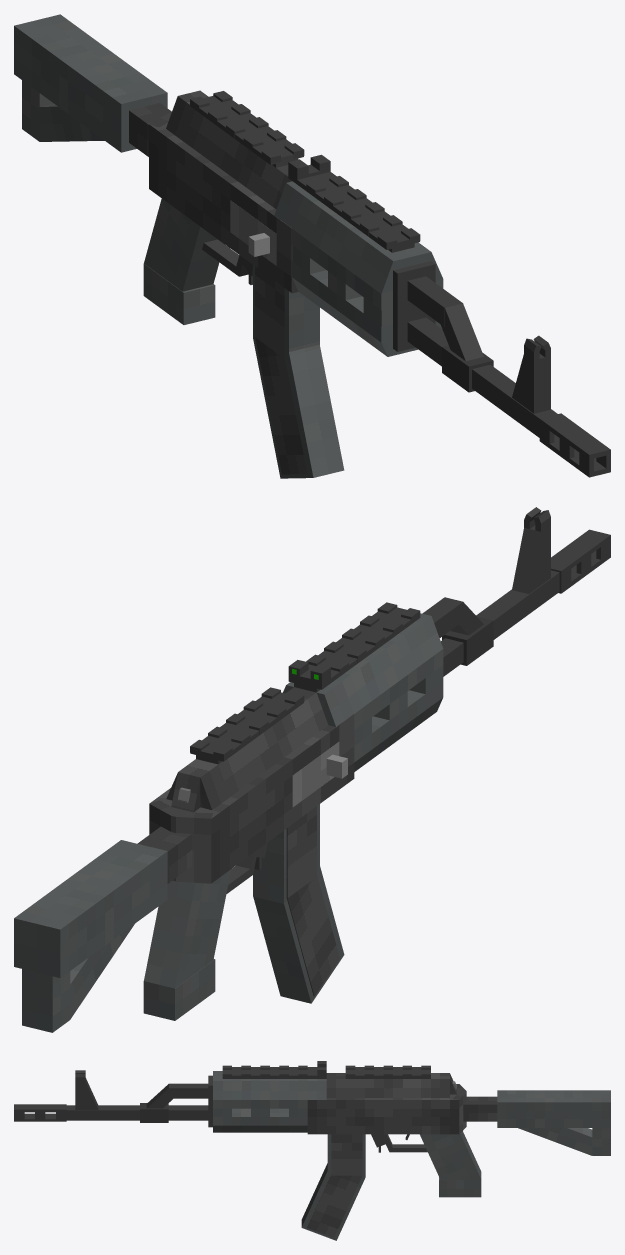
Rendered from assault_rifle.gltf.
3 renders of one model, top to bottom at view 1: azimuth 30°, elevation 25°; view 2: azimuth 150°, elevation 25°; view 3: azimuth 270°, elevation 25°, orthographic. The views are drawn at different scales.
Visible parts, largest first — view 1: body (×20), magazine (×4), stock_main (×2), handle (×2), stock_under, chamber, stock_back, trigger_guard; view 2: body (×18), stock_main (×2), magazine (×4), handle (×2), stock_back, body_back_right, stock_under, chamber, body_back_left; view 3: body (×18), stock_main (×2), magazine (×4), handle (×2), stock_under, stock_back, trigger_guard, body_back_left.
Part boxes in pixels (left/top/right/bottom): body (×20): left=149, top=96, right=610, bottom=477; magazine (×4): left=253, top=265, right=344, bottom=478; stock_main (×2): left=14, top=14, right=171, bottom=156; handle (×2): left=143, top=198, right=219, bottom=324; stock_under: left=39, top=103, right=104, bottom=141; chamber: left=230, top=200, right=276, bottom=265; stock_back: left=22, top=80, right=53, bottom=141; trigger_guard: left=202, top=239, right=239, bottom=276; body (×18): left=171, top=527, right=610, bottom=883; stock_main (×2): left=14, top=826, right=191, bottom=978; magazine (×4): left=253, top=804, right=344, bottom=1003; handle (×2): left=143, top=869, right=231, bottom=1020; stock_back: left=22, top=969, right=70, bottom=1032; body_back_right: left=176, top=807, right=214, bottom=883; stock_under: left=70, top=924, right=134, bottom=1019; chamber: left=292, top=742, right=339, bottom=807; body_back_left: left=149, top=798, right=178, bottom=834; body (×18): left=14, top=1067, right=459, bottom=1134; stock_main (×2): left=463, top=1090, right=610, bottom=1127; magazine (×4): left=301, top=1134, right=365, bottom=1240; handle (×2): left=420, top=1131, right=481, bottom=1197; stock_under: left=518, top=1128, right=592, bottom=1155; stock_back: left=592, top=1128, right=610, bottom=1155; trigger_guard: left=389, top=1144, right=427, bottom=1152; body_back_left: left=449, top=1092, right=466, bottom=1133.
Bounding box in the file's own units: 0.1569 × 0.6247 × 1.97.
Materials: 7 (6 with a texture image).
